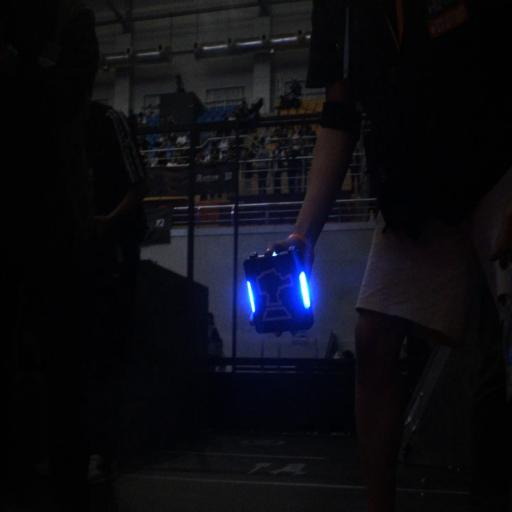target: (242, 250, 318, 337)
